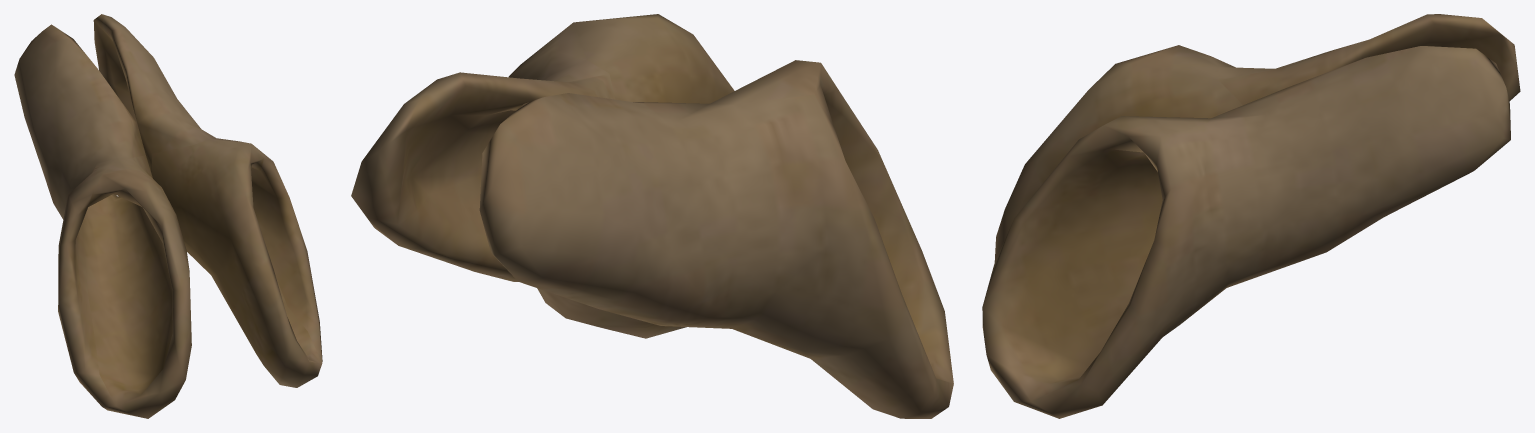
File: Nares.glb
The picture shows the model from 3 angles, left to right: view 1: azimuth 30°, elevation 25°; view 2: azimuth 150°, elevation 25°; view 3: azimuth 270°, elevation 25°; orthographic projection. The views are drawn at different scales.
Visible parts, largest first — view 1: nares.002; view 2: nares.002; view 3: nares.002.
Boxes of the visible parts, x1,y1,x2,y2 form: nares.002: [14, 14, 322, 418]; nares.002: [351, 14, 953, 418]; nares.002: [982, 14, 1520, 418].
Size of the model in its own units: 0.1089 by 0.113 by 0.1604.
Materials: 1 (1 with a texture image).
